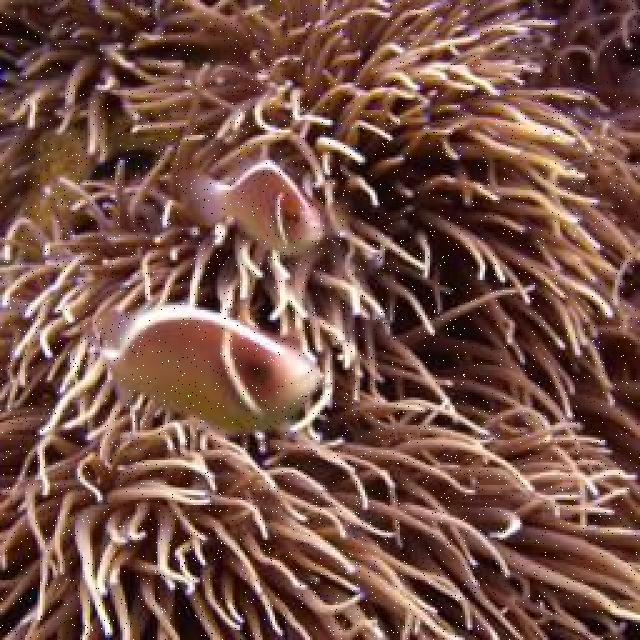fish: (94, 302, 327, 440), (181, 143, 323, 257)
reefs: (0, 0, 638, 637)
